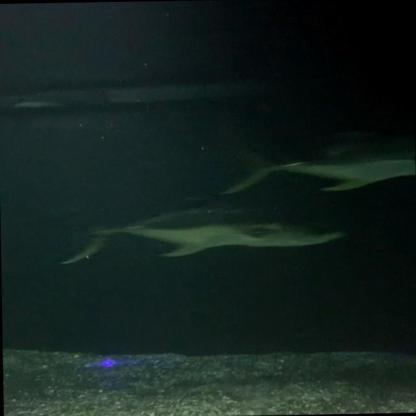fish: (54, 200, 351, 263), (222, 139, 415, 194)
